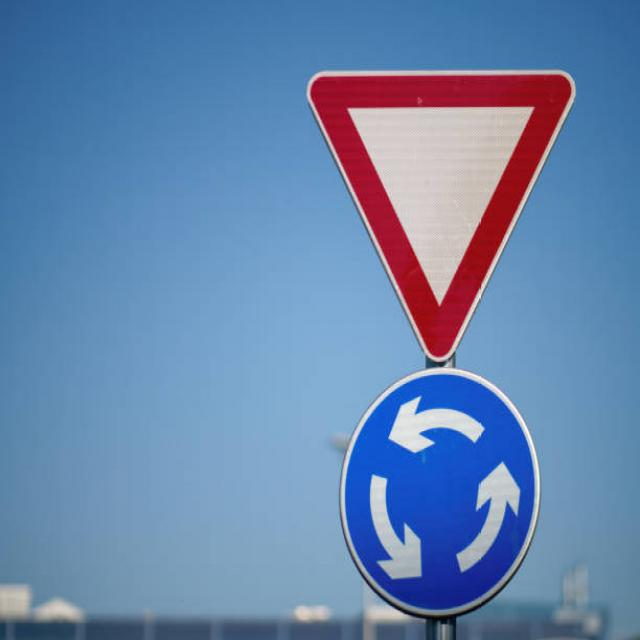give_way: (304, 61, 588, 364)
